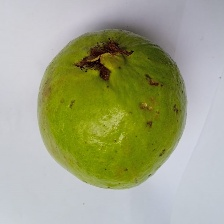guava: (35, 49, 181, 197)
